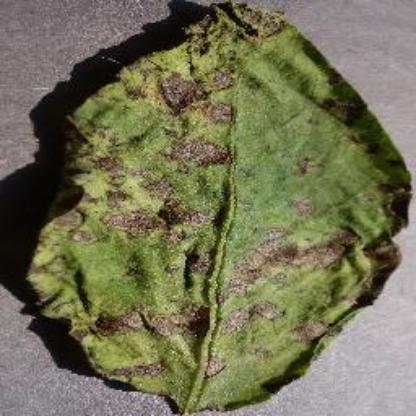Early-Blight: (24, 2, 406, 412)
